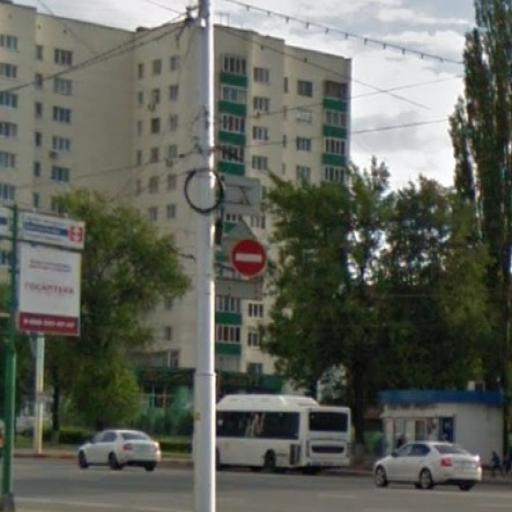traffic_sign: (230, 240, 269, 277)
